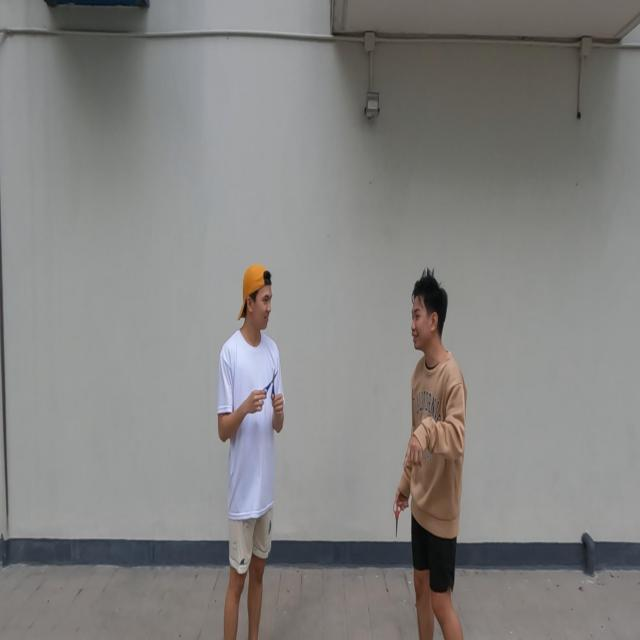scissor: (262, 367, 280, 400), (392, 496, 402, 537)
